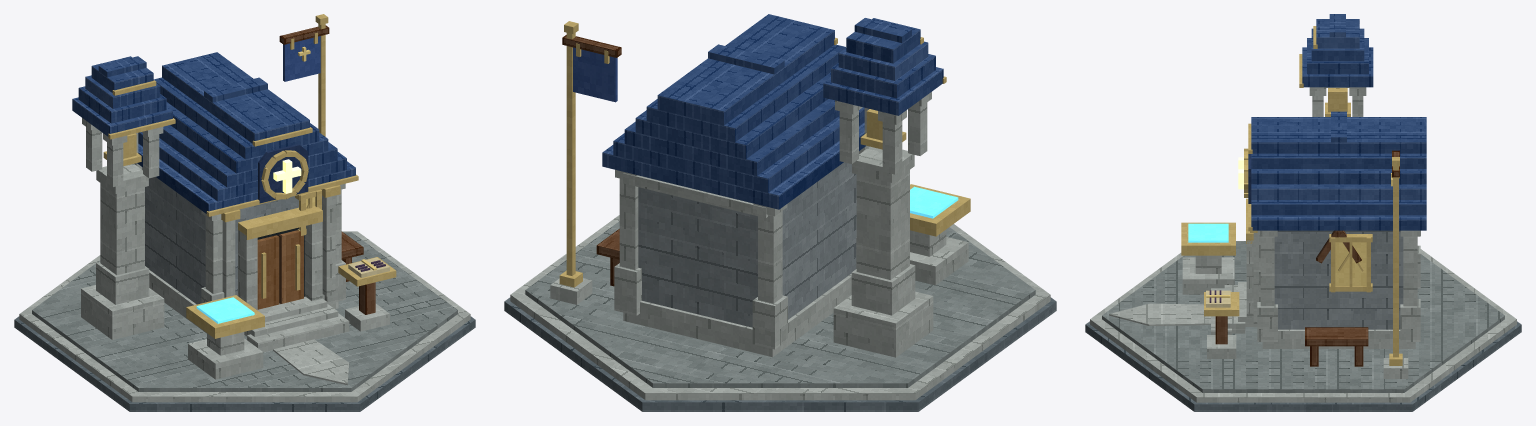
The model's file is sacred_temple_hex_v1.glb.
The picture shows the model from 3 angles, left to right: view 1: azimuth 30°, elevation 25°; view 2: azimuth 150°, elevation 25°; view 3: azimuth 270°, elevation 25°; orthographic projection. The views are drawn at different scales.
Parts seen in each view (by area): view 1: Sacred_Temple_Hex_V1_Foundation, Sacred_Temple_Hex_V1_Hall, Sacred_Temple_Hex_V1_Roofs, Sacred_Temple_Hex_V1_Training, Sacred_Temple_Hex_V1_Courtyard, Sacred_Temple_Hex_V1_Details, Sacred_Temple_Hex_V1_Focus, Sacred_Temple_Hex_V1_Faction; view 2: Sacred_Temple_Hex_V1_Hall, Sacred_Temple_Hex_V1_Foundation, Sacred_Temple_Hex_V1_Roofs, Sacred_Temple_Hex_V1_Faction, Sacred_Temple_Hex_V1_Training, Sacred_Temple_Hex_V1_Details, Sacred_Temple_Hex_V1_Focus; view 3: Sacred_Temple_Hex_V1_Foundation, Sacred_Temple_Hex_V1_Roofs, Sacred_Temple_Hex_V1_Hall, Sacred_Temple_Hex_V1_Training, Sacred_Temple_Hex_V1_Details, Sacred_Temple_Hex_V1_Courtyard, Sacred_Temple_Hex_V1_Faction, Sacred_Temple_Hex_V1_Focus.
Boxes of the visible parts, <box> form: Sacred_Temple_Hex_V1_Foundation: <box>14,231,475,411</box>; Sacred_Temple_Hex_V1_Hall: <box>81,118,345,339</box>; Sacred_Temple_Hex_V1_Roofs: <box>72,52,358,216</box>; Sacred_Temple_Hex_V1_Training: <box>186,231,396,379</box>; Sacred_Temple_Hex_V1_Courtyard: <box>244,296,349,385</box>; Sacred_Temple_Hex_V1_Details: <box>221,185,340,298</box>; Sacred_Temple_Hex_V1_Focus: <box>103,133,308,203</box>; Sacred_Temple_Hex_V1_Faction: <box>279,14,329,136</box>; Sacred_Temple_Hex_V1_Hall: <box>614,92,933,357</box>; Sacred_Temple_Hex_V1_Foundation: <box>504,215,1056,411</box>; Sacred_Temple_Hex_V1_Roofs: <box>602,14,946,209</box>; Sacred_Temple_Hex_V1_Faction: <box>550,21,621,304</box>; Sacred_Temple_Hex_V1_Training: <box>596,184,970,286</box>; Sacred_Temple_Hex_V1_Details: <box>623,173,767,217</box>; Sacred_Temple_Hex_V1_Focus: <box>860,109,906,149</box>; Sacred_Temple_Hex_V1_Foundation: <box>1085,241,1521,411</box>; Sacred_Temple_Hex_V1_Roofs: <box>1248,14,1426,231</box>; Sacred_Temple_Hex_V1_Hall: <box>1246,87,1420,348</box>; Sacred_Temple_Hex_V1_Training: <box>1181,222,1368,366</box>; Sacred_Temple_Hex_V1_Details: <box>1250,230,1420,327</box>; Sacred_Temple_Hex_V1_Courtyard: <box>1109,282,1253,334</box>; Sacred_Temple_Hex_V1_Faction: <box>1383,150,1408,378</box>; Sacred_Temple_Hex_V1_Focus: <box>1238,88,1350,203</box>.
Size of the model in its own units: 1.59 by 1.21 by 1.84.
1 material, 1 textured.
